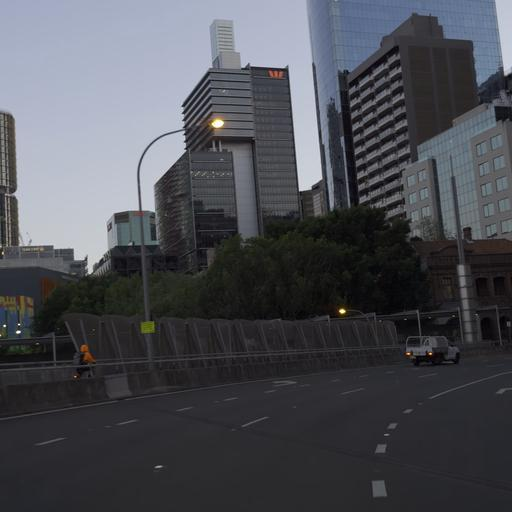Street light: (135, 114, 225, 373), (337, 306, 365, 317)
